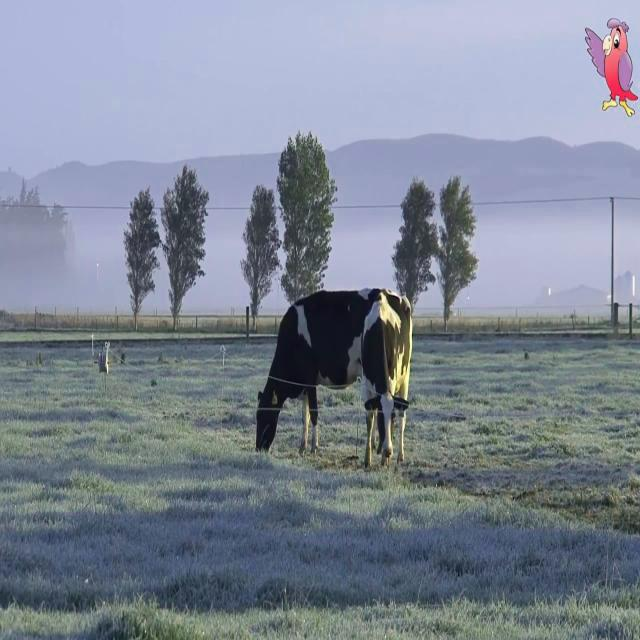cow: (256, 290, 378, 451), (361, 290, 411, 466)
